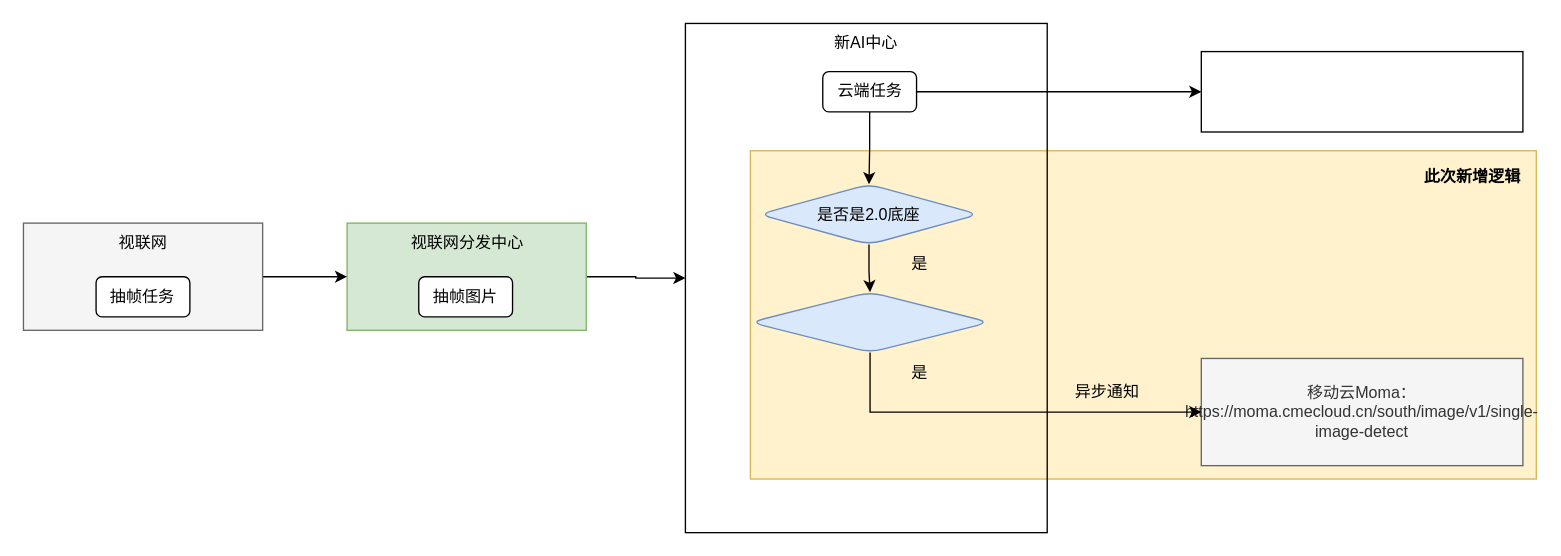
Some shapes in this 1561 by 556 pixel diagram are drawn without their labels. Each missing label, with the centre of its shape:
"AI底座" belongs at pixel 1361 91.
"是否 是指定 算法类型" belongs at pixel 869 321.
